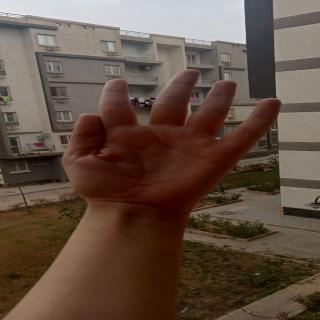SHEEN: (61, 64, 285, 205)
